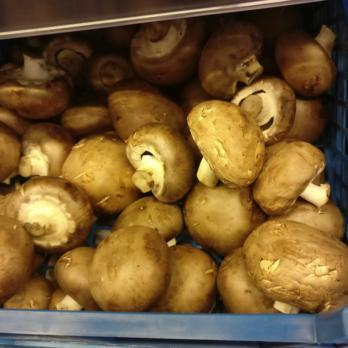Mushroom: (0, 112, 345, 314), (0, 44, 346, 117)
